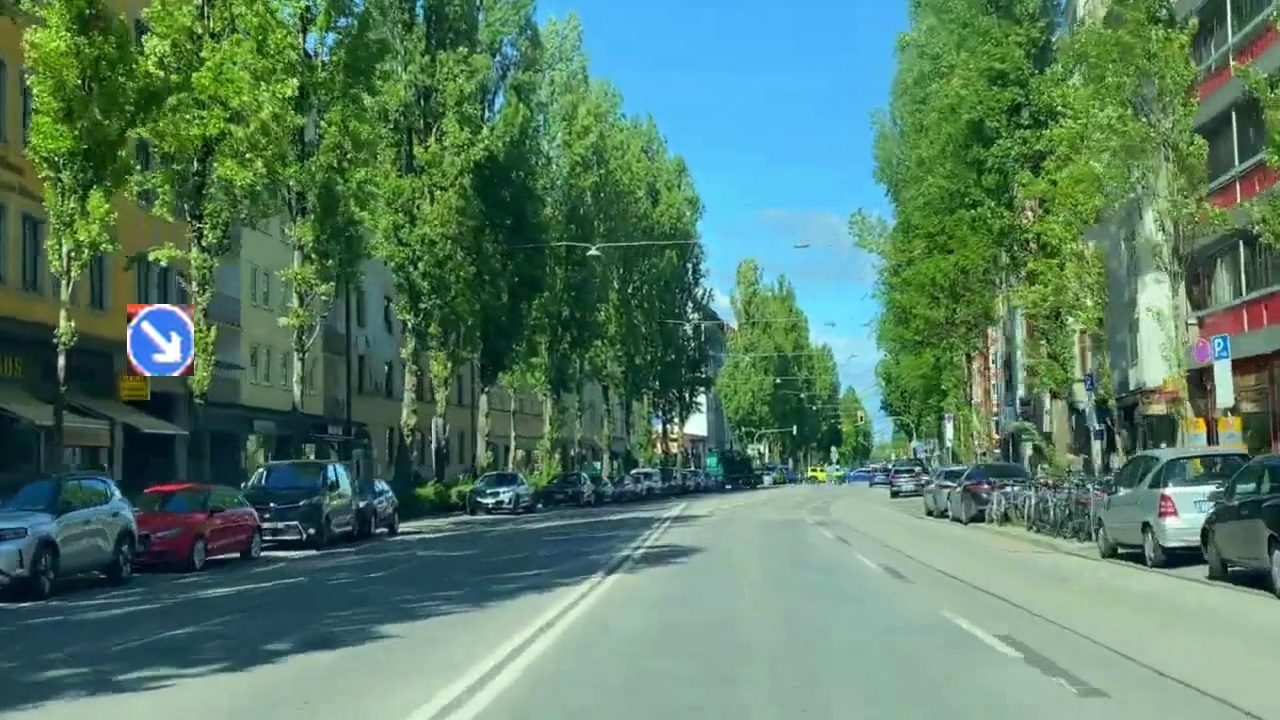Keep right: (127, 304, 194, 376)
